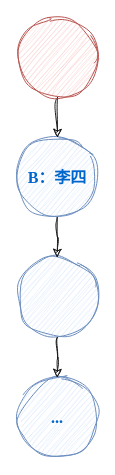
Image size: 115x475. Some labels were removed from this diagram. Here are the shapes that lost their labels. From the top down, the box of each, then its label:
(16, 16, 98, 98): E=A+C
(16, 256, 98, 338): D：张三
